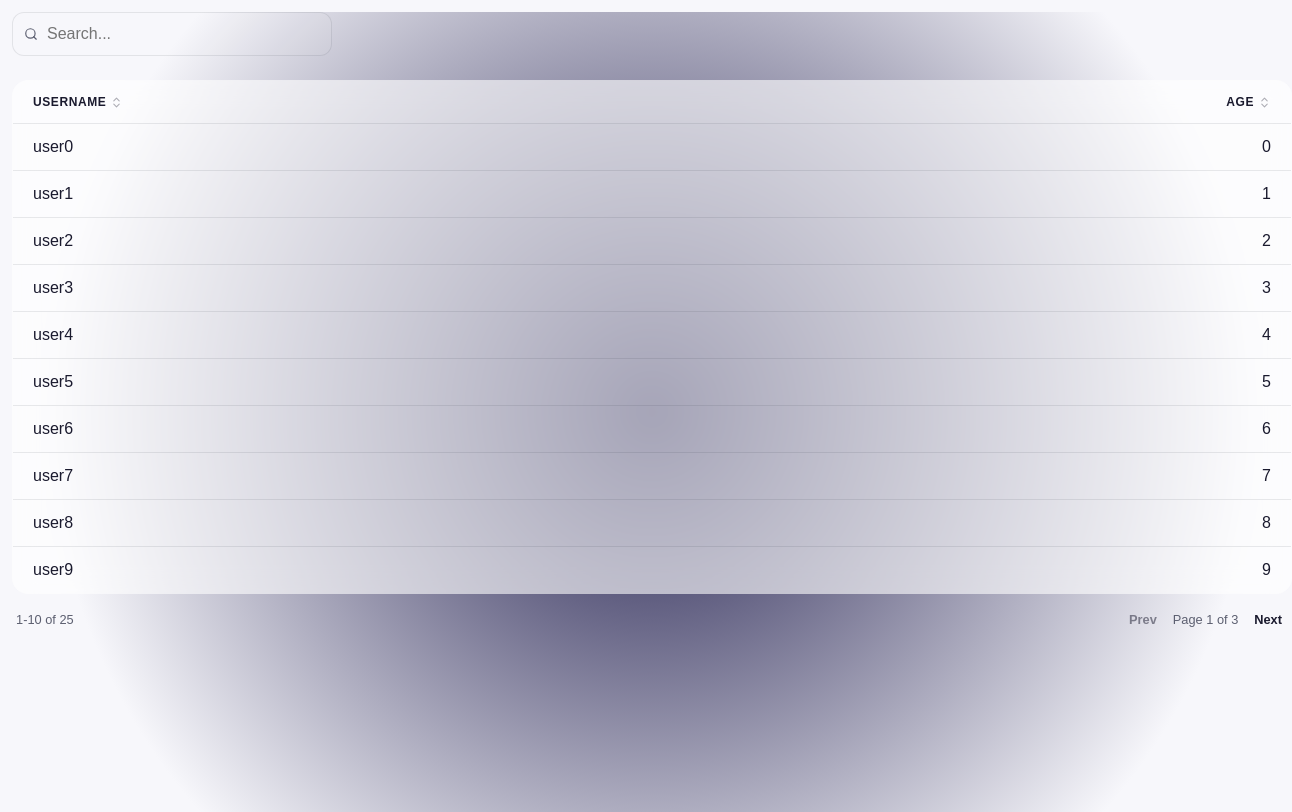
Test case: DataTable › paginates and Prev/Next navigate correctly, disabling at the boundaries
Expected: the text "1-10 of 25" is shown, [16,612,74,627]
Expected: the text "Page 1 of 3" is shown, [1173,612,1238,627]
Click the button "Next" at (1268, 620), box [1248,606,1288,633]
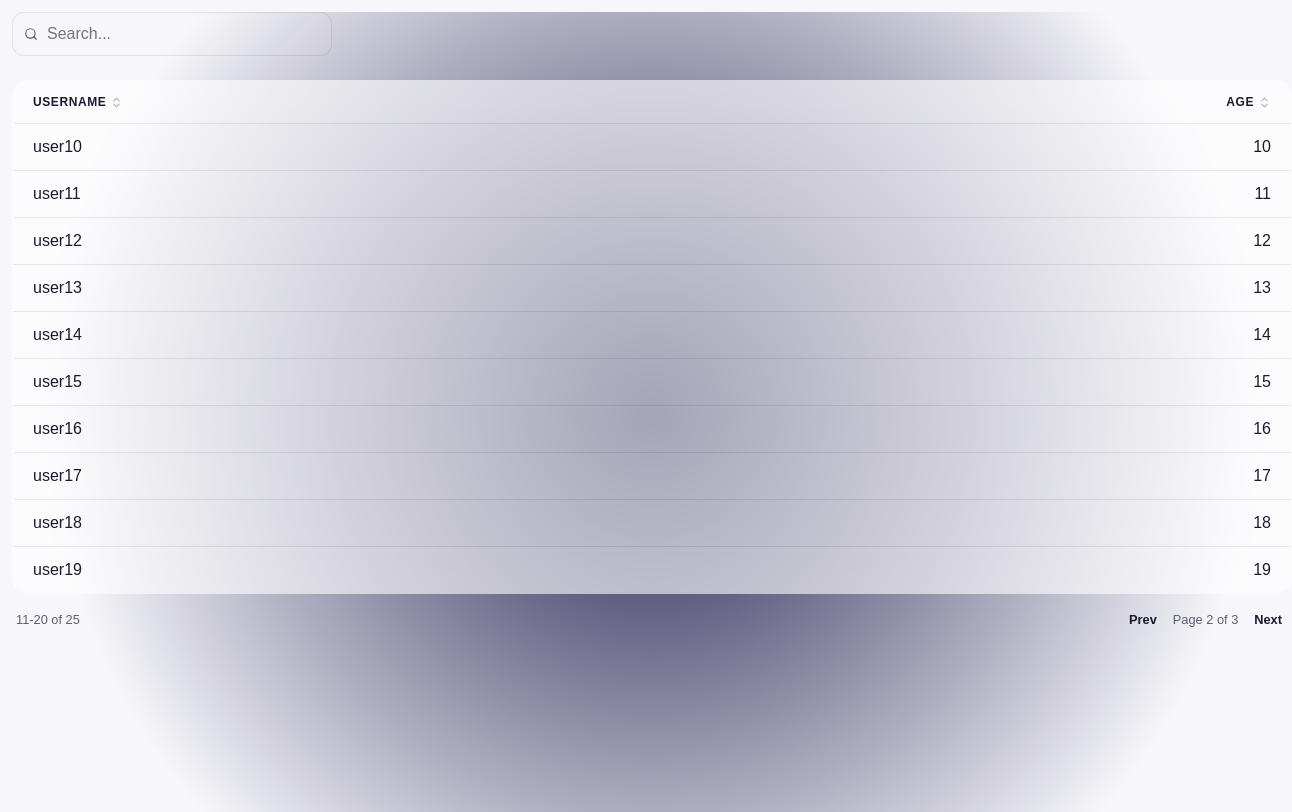
Result: the text "11-20 of 25" is shown at [16,612,80,627]
Result: the button "Prev" is enabled at [1123,606,1163,633]
Click the button "Next" at (1268, 620), box [1248,606,1288,633]
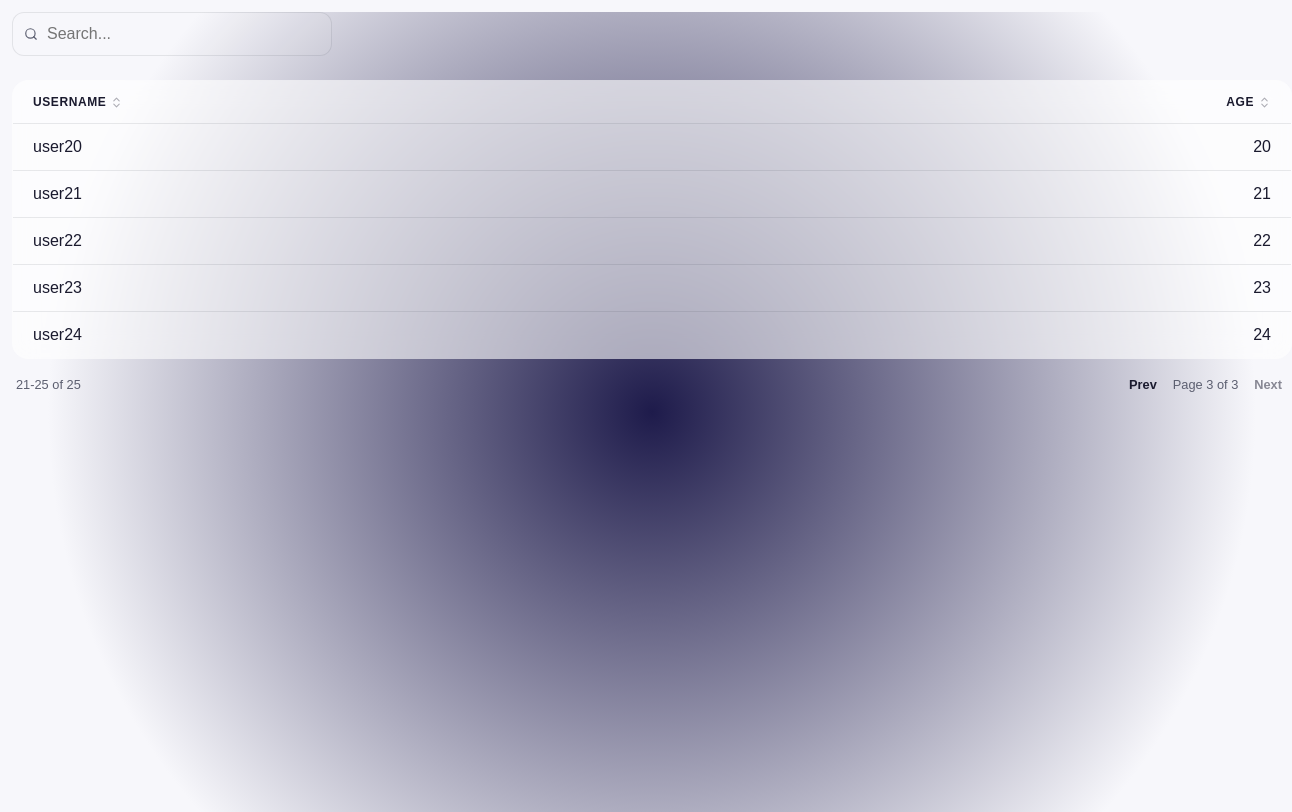
Result: the text "21-25 of 25" is shown at [16,377,81,392]
Result: the button "Next" is disabled at [1248,371,1288,398]
